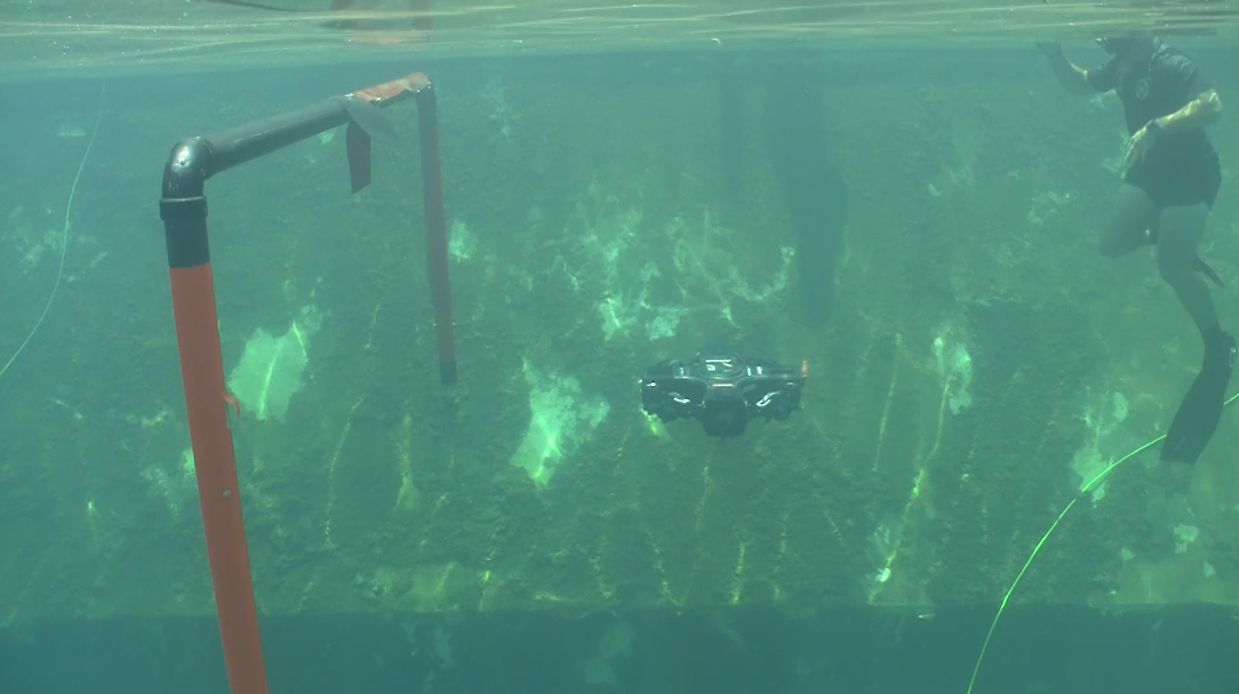gate: (147, 72, 465, 692)
